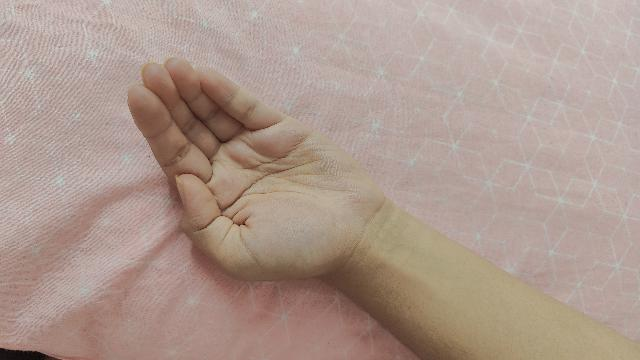sarpsheesh: (125, 59, 640, 360)
